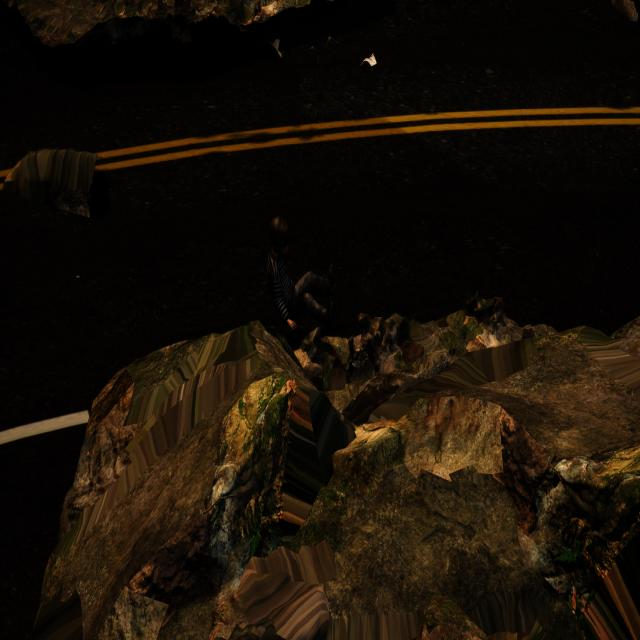Human: (253, 208, 341, 341)
